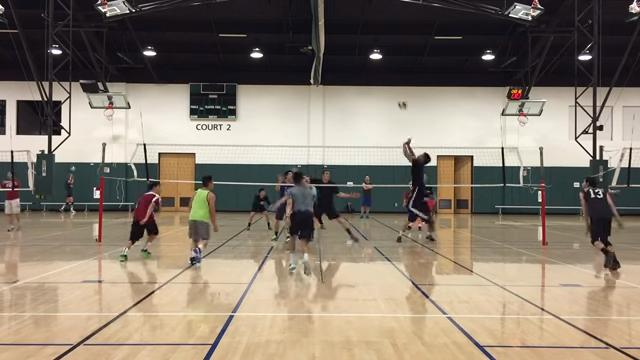alzata: (400, 133, 438, 235)
